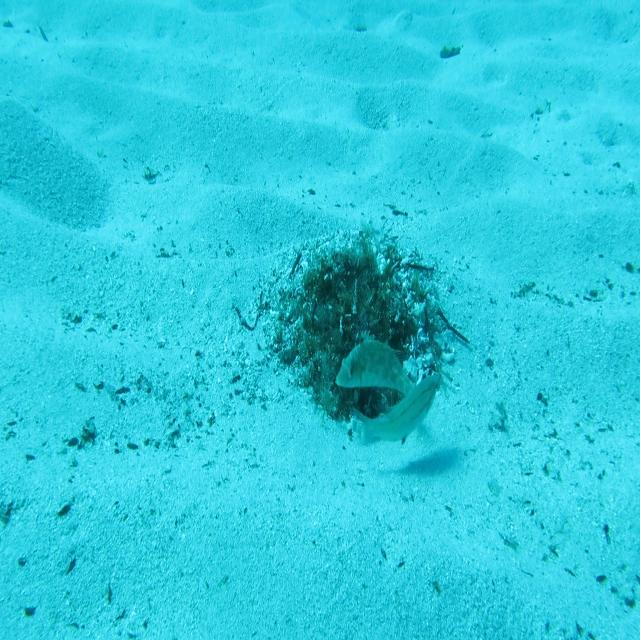DAN_CIRC: (334, 328, 416, 399)
core_nest: (334, 271, 376, 320)
female: (348, 371, 442, 448)
nest: (249, 207, 460, 443)
vegetation: (442, 44, 462, 62)
